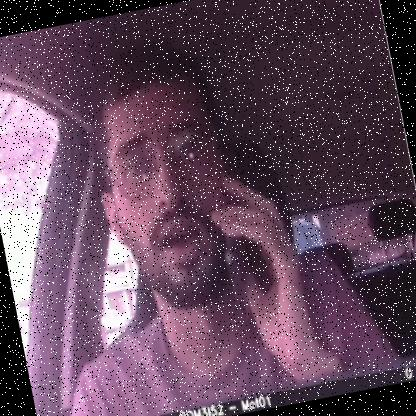phone: (204, 162, 286, 328)
